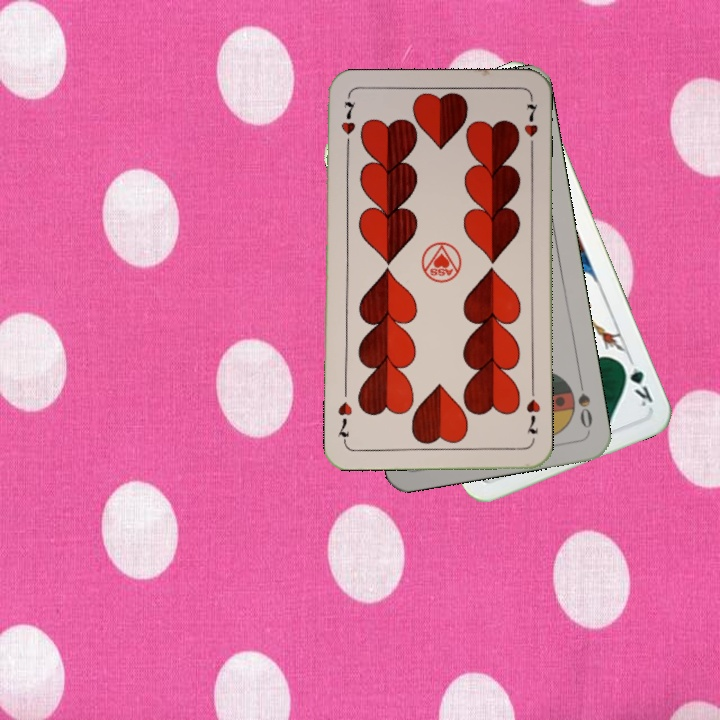GK: (617, 353, 656, 409)
H7: (336, 98, 357, 154), (522, 395, 543, 436)
SO: (574, 376, 595, 435)
